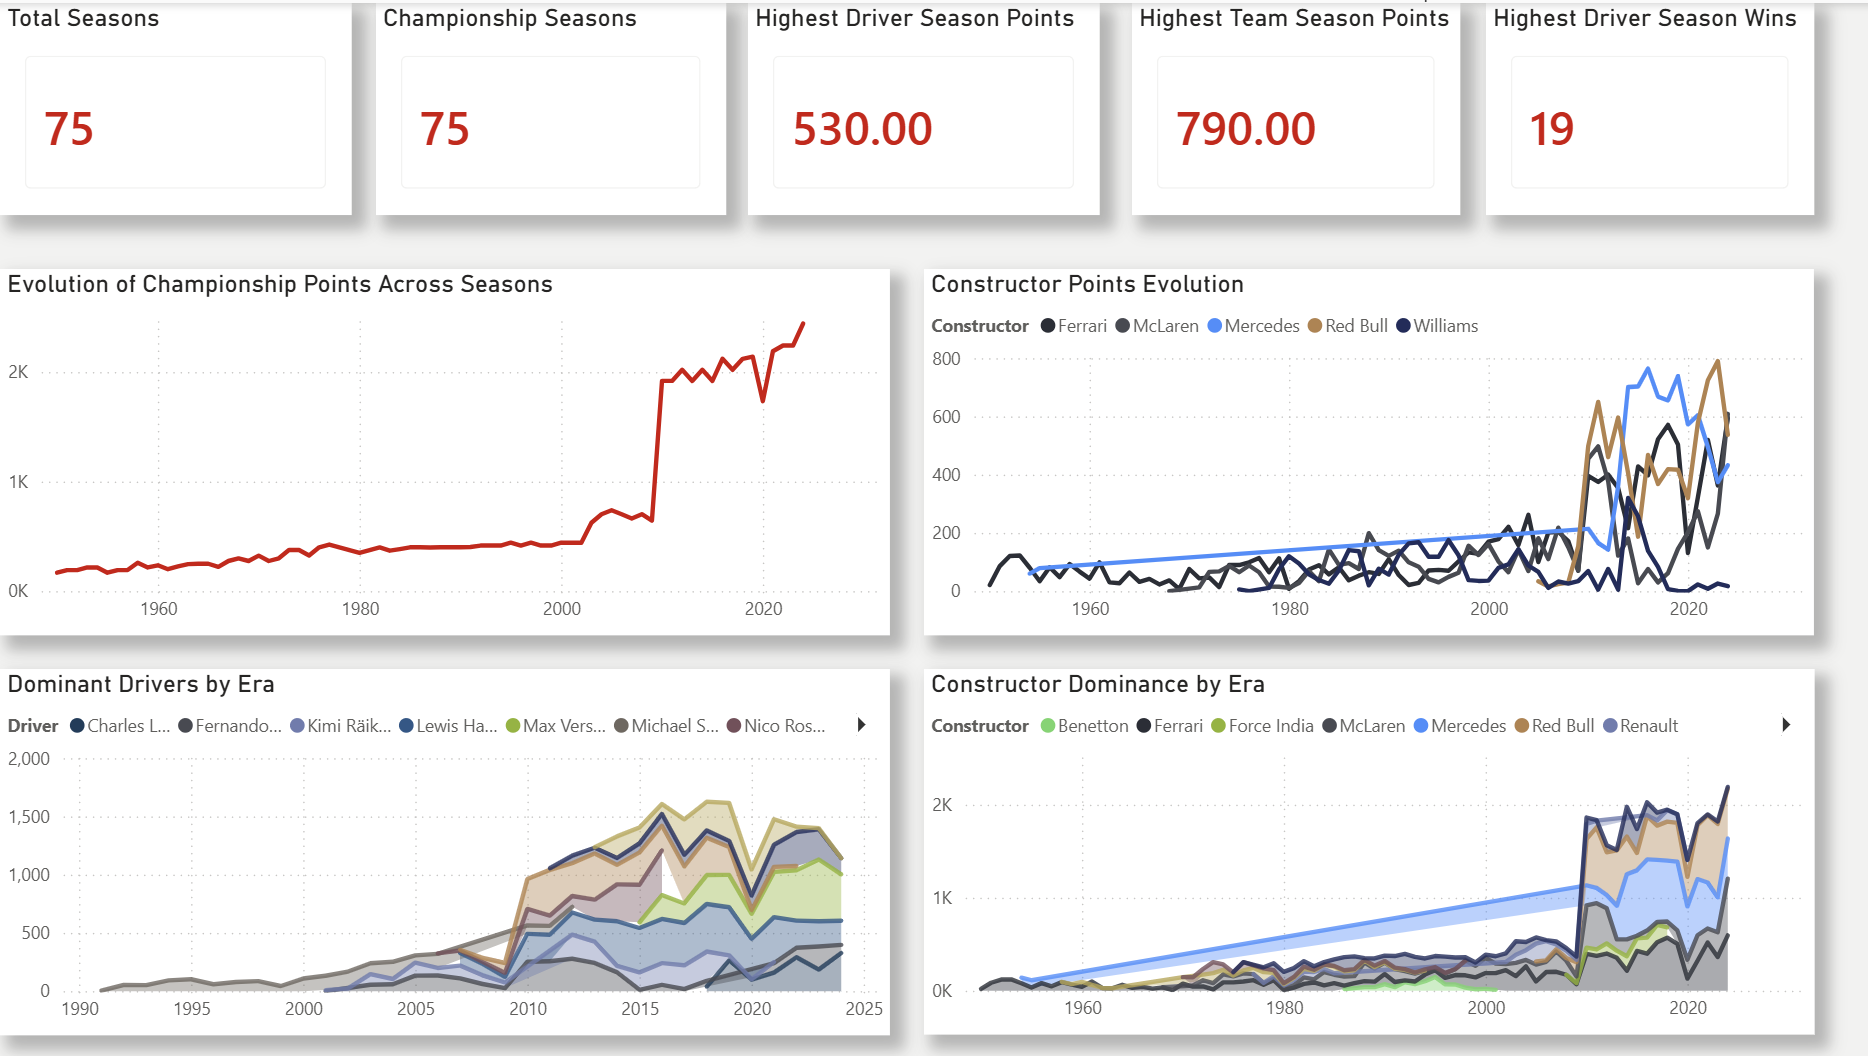

Layout of this report page (visuals, bound fields, positions):
{"tool":"powerbi","page":{"name":"Season Trends & Championship Evolutions","canvas":[1280,720],"ordinal":4},"visuals":[{"type":"lineChart","title":"Evolution of Championship Points Across Seasons","fields":{"Category":["season_driver_kpis.year"],"Y":["Sum(season_driver_kpis.season_points)"]},"box":[0,181.9,608.5,250.3],"z":0},{"type":"cardVisual","title":"Total Seasons","fields":{"Data":["season_driver_kpis.Total Seasons"]},"box":[0,0,240.7,145],"z":1000},{"type":"cardVisual","title":"Championship Seasons","fields":{"Data":["season_driver_kpis.Total Championships Represented"]},"box":[257.1,0,239.3,145],"z":2000},{"type":"cardVisual","title":"Highest Driver Season Points","fields":{"Data":["season_driver_kpis.Highest Driver Season Points"]},"box":[511.5,0,240.7,145],"z":3000},{"type":"cardVisual","title":"Highest Team Season Points","fields":{"Data":["season_team_kpis.Highest Team Season Points"]},"box":[774,0,224.3,145],"z":4000},{"type":"cardVisual","title":"Highest Driver Season Wins","fields":{"Data":["season_driver_kpis.Highest Driver Season Wins"]},"box":[1016.1,0,224.3,145],"z":5000},{"type":"lineChart","title":"Constructor Points Evolution","fields":{"Category":["season_team_kpis.year"],"Y":["Sum(season_team_kpis.season_points)"],"Series":["season_team_kpis.constructor_name"]},"box":[631.8,181.9,608.5,250.3],"z":6000},{"type":"stackedAreaChart","title":"Dominant Drivers by Era","fields":{"Category":["season_driver_kpis.year"],"Series":["season_driver_kpis.driver_name"],"Y":["Sum(season_driver_kpis.season_points)"]},"box":[0,455.4,608.5,250.3],"z":7000},{"type":"stackedAreaChart","title":"Constructor Dominance by Era","fields":{"Category":["season_team_kpis.year"],"Y":["Sum(season_team_kpis.season_points)"],"Series":["season_team_kpis.constructor_name"]},"box":[632,455,609,250],"z":8000}]}

Visuals, with their boxes in screenshot pixels (x1, y1, x2, y2), scaled from the page's 1280x720 canvas onto the 1868x1056 screenshot:
"Evolution of Championship Points Across Seasons" lineChart: Rect(0, 267, 888, 634)
"Total Seasons" cardVisual: Rect(0, 0, 351, 213)
"Championship Seasons" cardVisual: Rect(375, 0, 724, 213)
"Highest Driver Season Points" cardVisual: Rect(746, 0, 1098, 213)
"Highest Team Season Points" cardVisual: Rect(1130, 0, 1457, 213)
"Highest Driver Season Wins" cardVisual: Rect(1483, 0, 1810, 213)
"Constructor Points Evolution" lineChart: Rect(922, 267, 1810, 634)
"Dominant Drivers by Era" stackedAreaChart: Rect(0, 668, 888, 1035)
"Constructor Dominance by Era" stackedAreaChart: Rect(922, 667, 1811, 1034)
